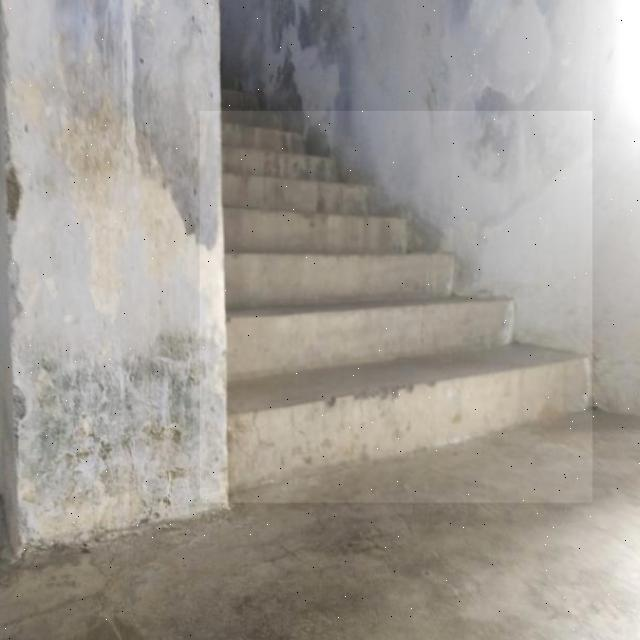stair: (200, 111, 592, 503)
